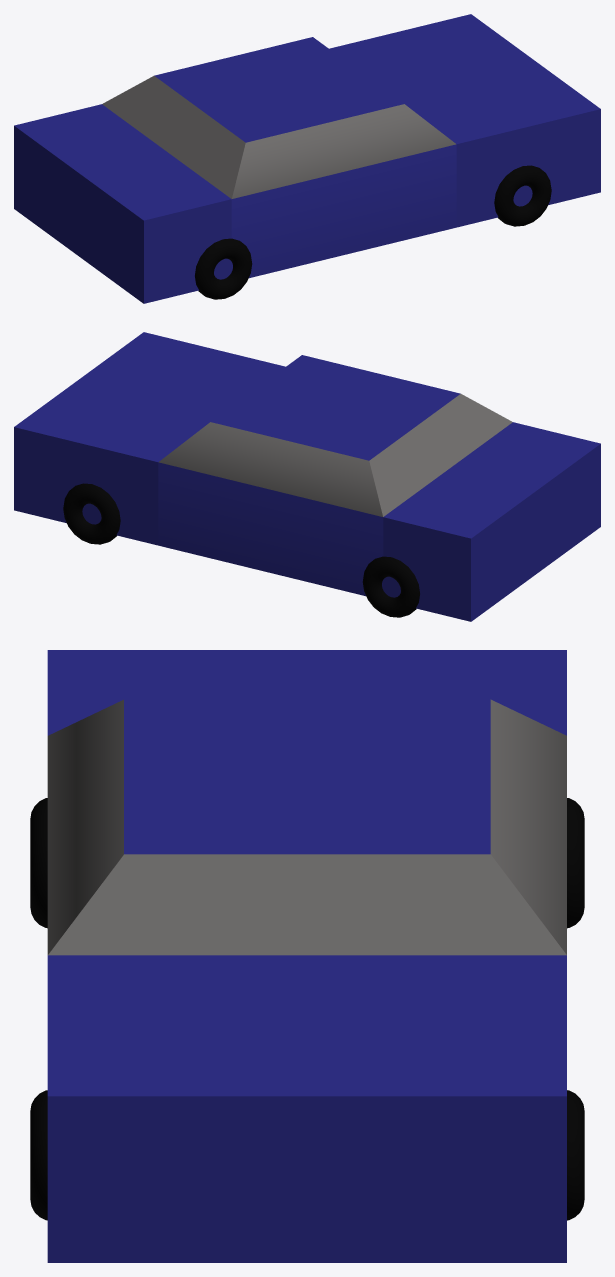
File: Blue Car.fbx
The picture shows the model from 3 angles, top to bottom: view 1: azimuth 30°, elevation 25°; view 2: azimuth 150°, elevation 25°; view 3: azimuth 270°, elevation 25°; orthographic projection. The views are drawn at different scales.
Parts seen in each view (by area): view 1: pTorus6; view 2: pTorus6; view 3: pTorus6.
Part boxes in pixels (x1,y1,x2,y2): pTorus6: (14, 14, 600, 303); pTorus6: (14, 332, 600, 621); pTorus6: (30, 650, 584, 1262).
Bounding box in the file's own units: 6.1 × 1.69 × 3.2.
